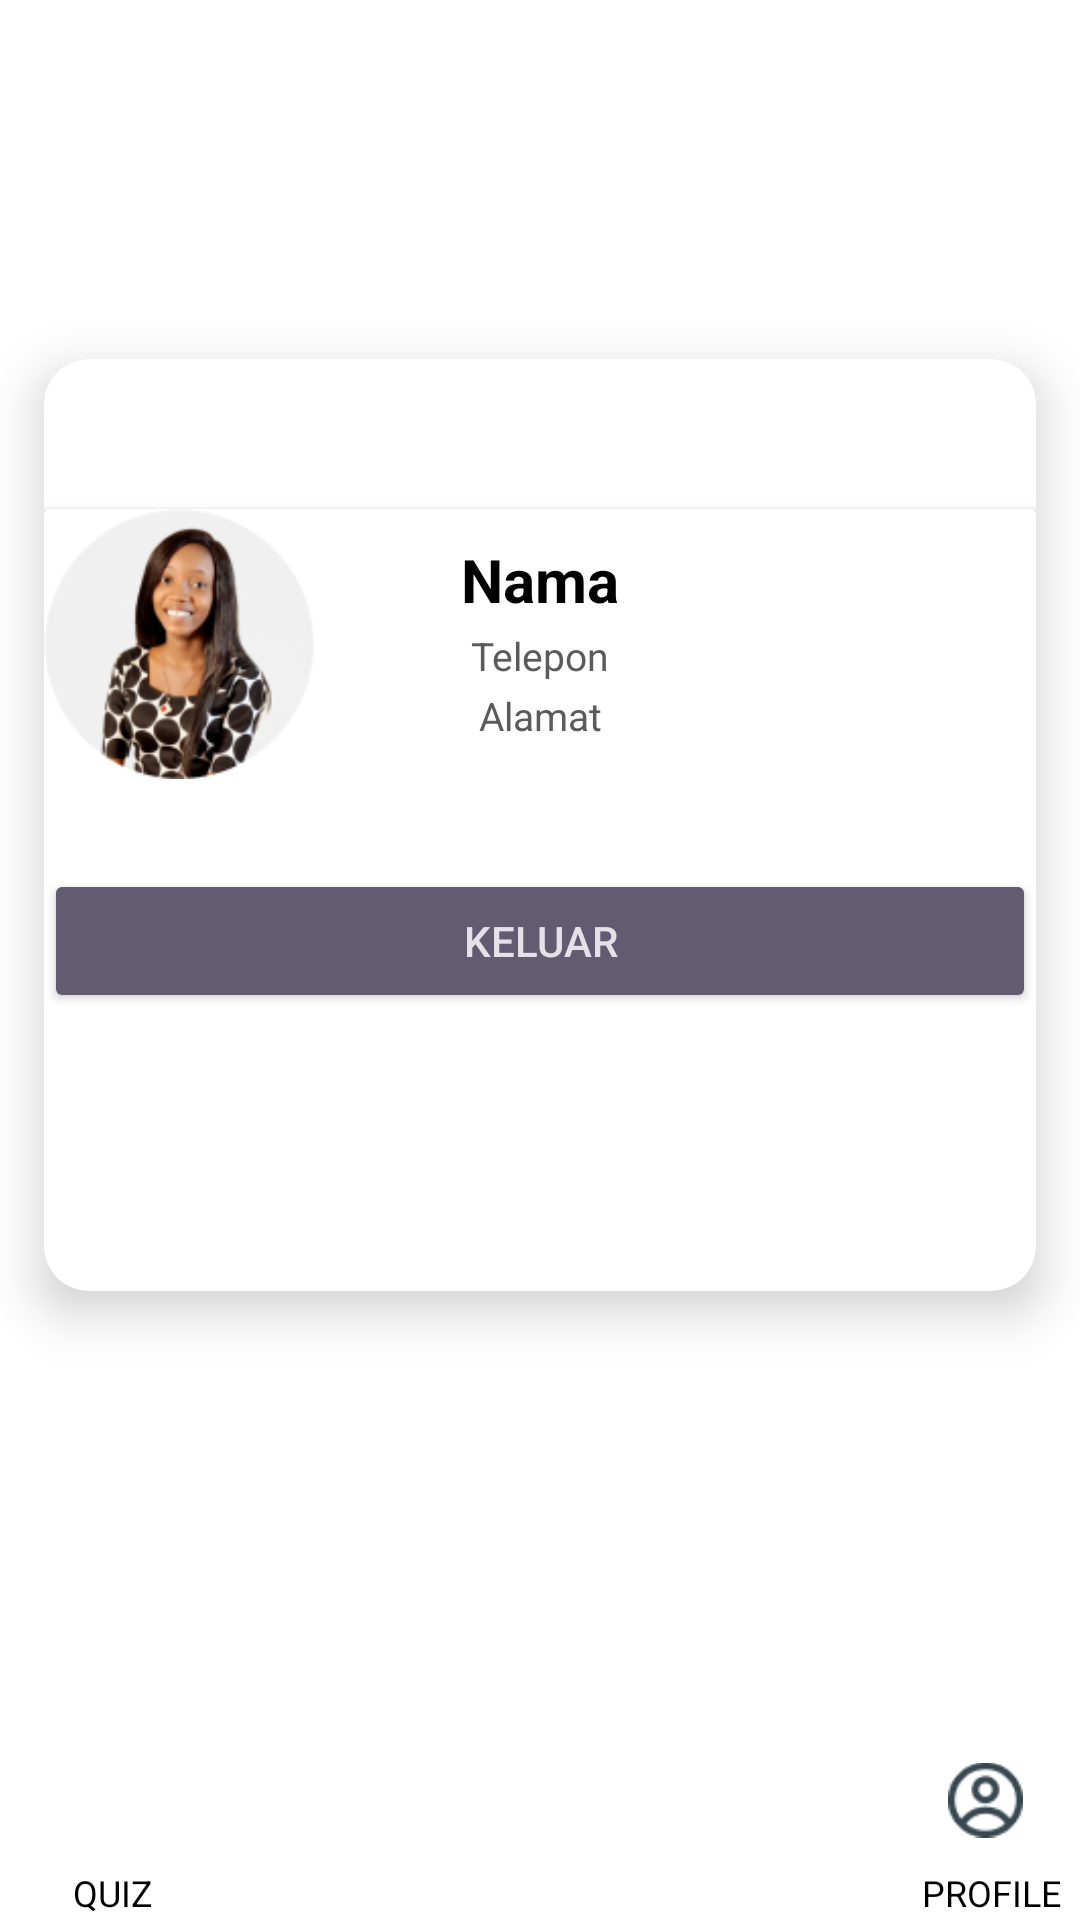

Named icons in this screenshot (1080 x 1920) and their centers, (x=x, y=y):
profileimages: (x=186, y=653)
